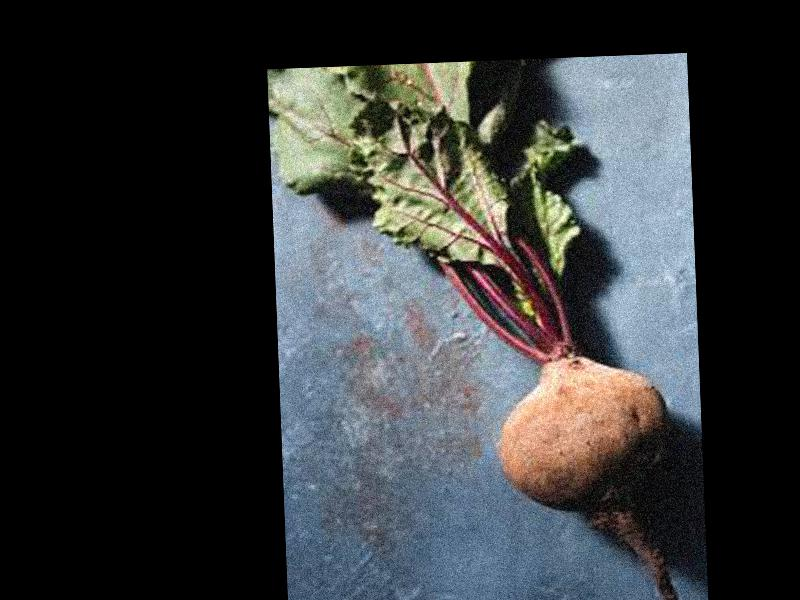Beet: (269, 53, 681, 600)
